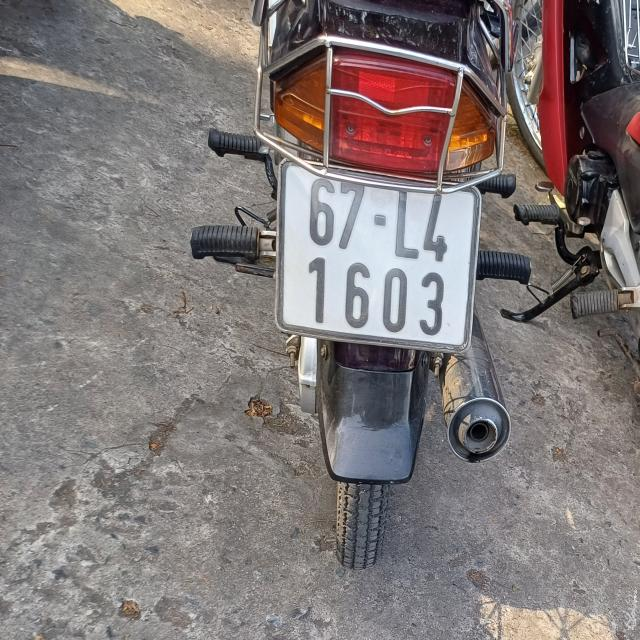0: (384, 269, 406, 332)
1: (308, 258, 328, 324)
3: (420, 272, 445, 334)
4: (425, 194, 448, 265)
6: (310, 178, 334, 248), (346, 263, 369, 329)
7: (339, 180, 364, 251)
L: (396, 188, 420, 259)
